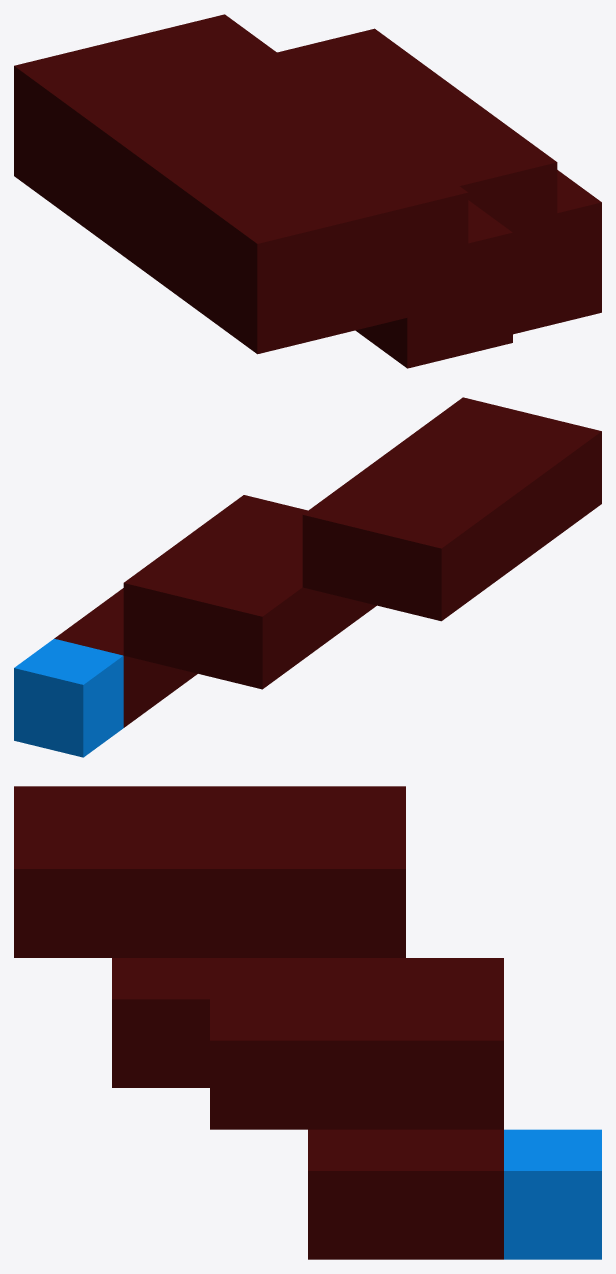
Rendered from Extra-8-MeteorSlicer_Fin_L.obj.
3 views of the same model, one above another, from view 1: azimuth 30°, elevation 25°; view 2: azimuth 150°, elevation 25°; view 3: azimuth 270°, elevation 25° (orthographic). The views are drawn at different scales.
Parts seen in each view (by area): view 1: MeteorSlicer_Fin_L; view 2: MeteorSlicer_Fin_L; view 3: MeteorSlicer_Fin_L.
Boxes of the visible parts, <box> form: MeteorSlicer_Fin_L: <box>14,14,601,368</box>; MeteorSlicer_Fin_L: <box>14,397,601,757</box>; MeteorSlicer_Fin_L: <box>14,786,601,1259</box>.
Bounding box in the file's own units: 0.5 × 0.3 × 0.6.
Materials: 1 (1 with a texture image).
